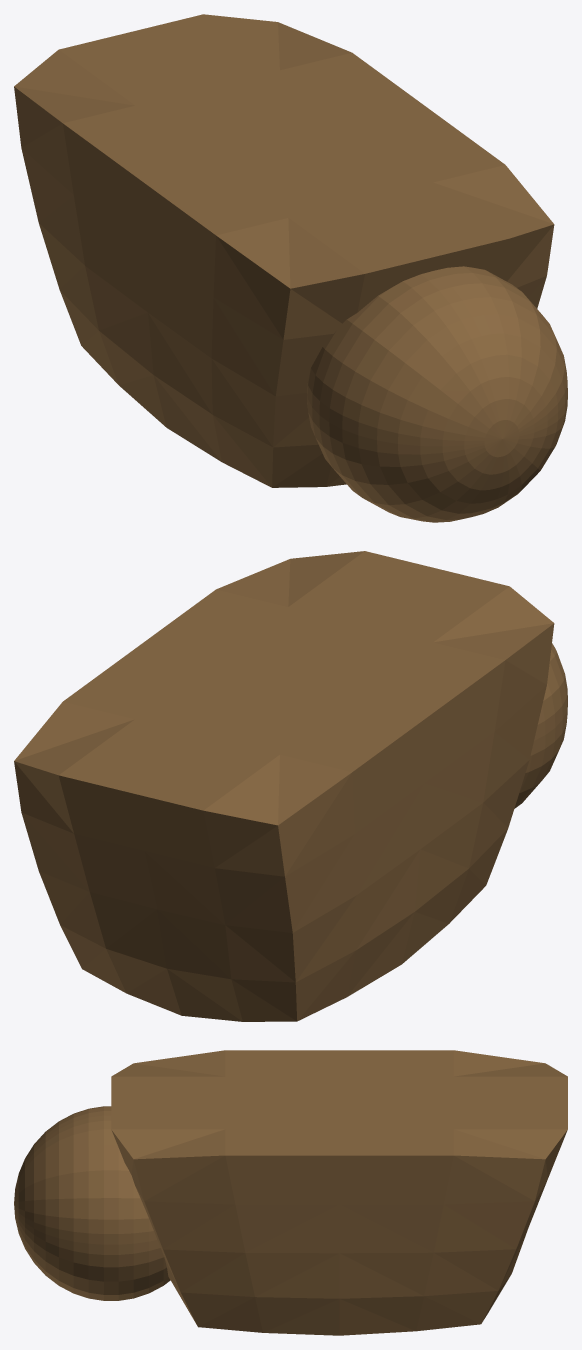
The model's file is RightFingerJoint42y_joint_visu.dae.
The picture shows the model from 3 angles, top to bottom: view 1: azimuth 30°, elevation 25°; view 2: azimuth 150°, elevation 25°; view 3: azimuth 270°, elevation 25°; orthographic projection. The views are drawn at different scales.
Visible parts, largest first — view 1: node; view 2: node; view 3: node.
Boxes of the visible parts, x1,y1,x2,y2 form: node: (14,14,567,522); node: (14,551,567,1021); node: (14,1050,567,1335).
Size of the model in its own units: 0.00972 by 0.00867 by 0.0216.
